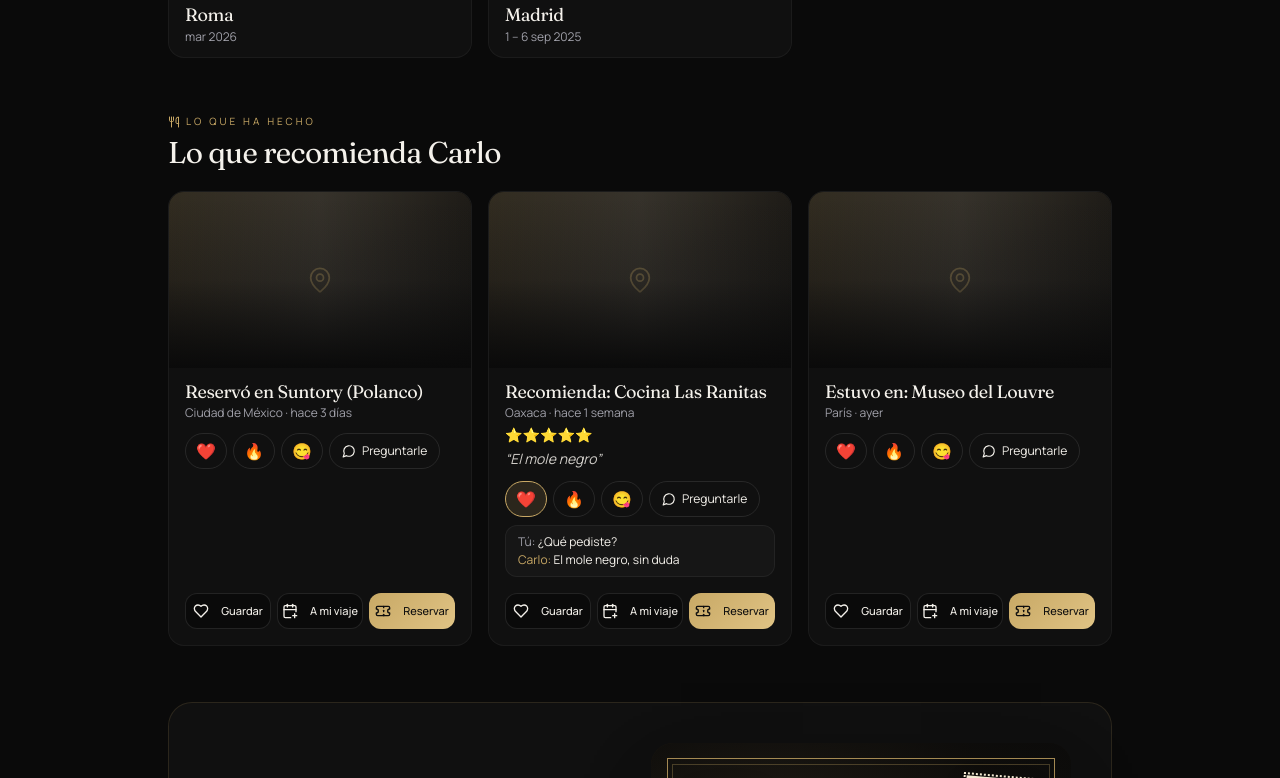
it: actividad del amigo › reaccionar llama al servidor y marca la reacción
This screenshot has width=1280, height=778.
(page scrolled)
Click the button named "Increíble".
click(254, 451)  # box [233,433,275,469]
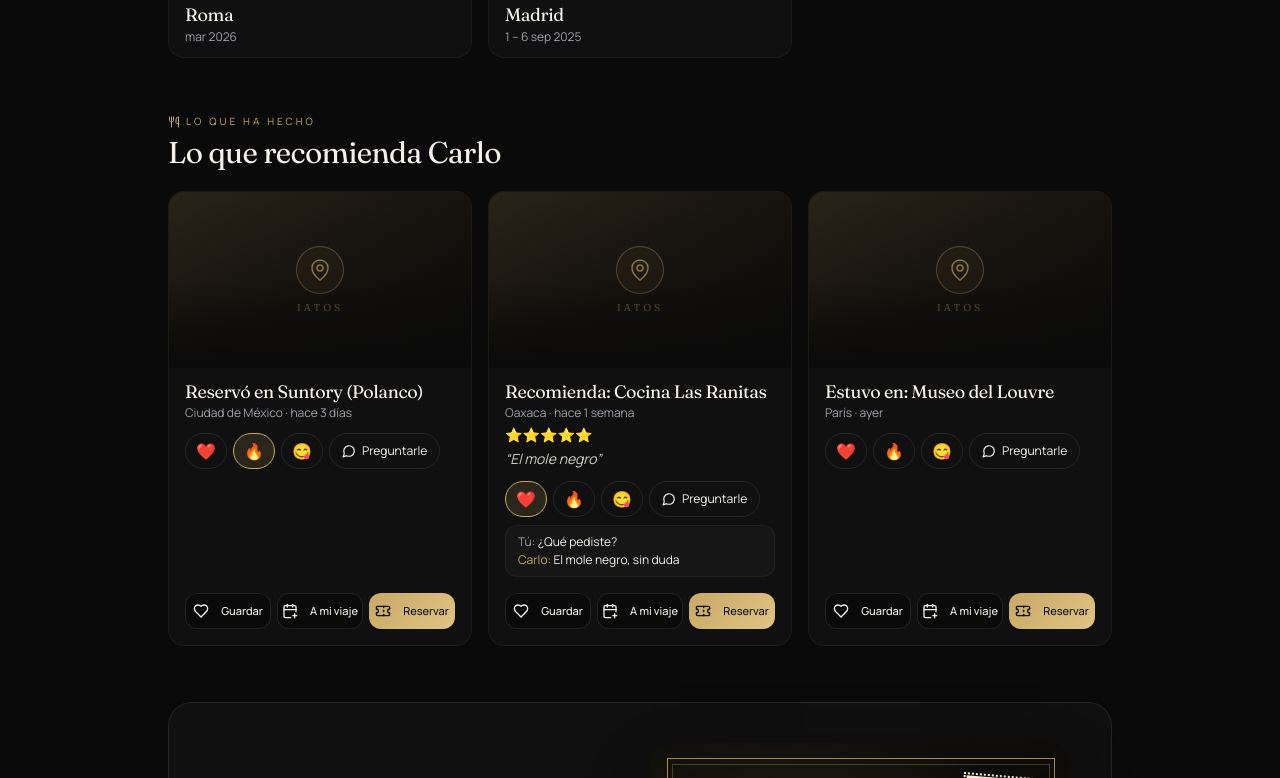
Expected: the button named "Increíble" is pressed, [233,433,275,469]
